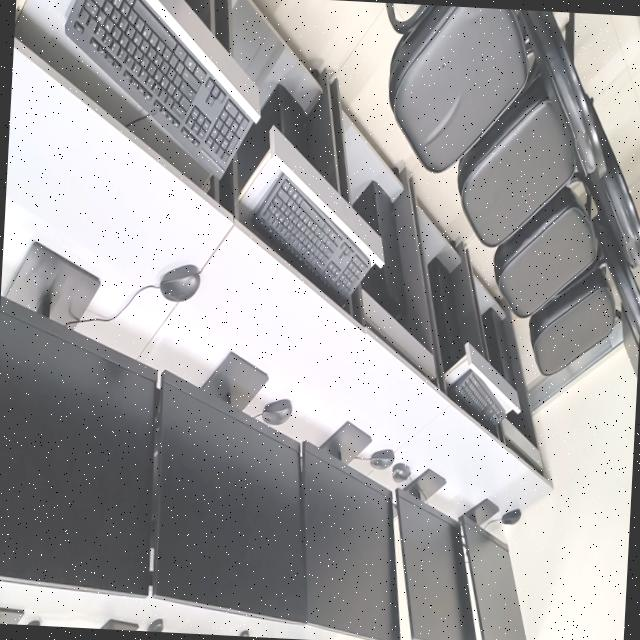Chair: (386, 3, 605, 174), (457, 73, 640, 272), (494, 188, 640, 347), (529, 243, 639, 379)
Cpu: (353, 182, 406, 322), (237, 84, 306, 187), (428, 257, 464, 371), (481, 308, 514, 387)
Keyboard: (65, 0, 253, 178), (252, 173, 371, 306), (449, 370, 505, 429)
Monitor: (0, 243, 158, 596), (153, 352, 307, 623), (301, 422, 400, 640), (395, 470, 476, 640), (459, 500, 526, 640), (100, 620, 138, 631), (0, 608, 24, 625)
Mouse: (160, 266, 200, 303), (261, 400, 292, 426), (370, 451, 394, 470), (392, 464, 411, 483), (501, 509, 521, 525), (147, 619, 163, 632), (239, 630, 249, 637), (27, 621, 40, 626)
